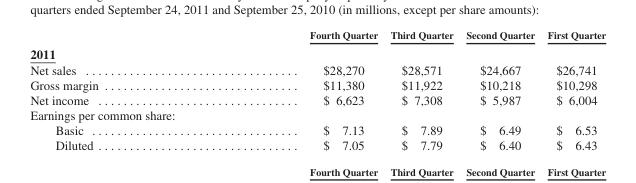table: (29, 28, 605, 152)
table column: (203, 28, 383, 152), (29, 28, 203, 152), (459, 28, 540, 152), (383, 28, 459, 152), (540, 28, 605, 152)
table column header: (29, 28, 605, 43)
table projected row header: (29, 43, 605, 61), (29, 107, 605, 122)
table row: (29, 43, 605, 61), (29, 91, 605, 107), (29, 28, 605, 43), (29, 61, 605, 76), (29, 76, 605, 91), (29, 107, 605, 122), (29, 122, 605, 137), (29, 137, 605, 152)
